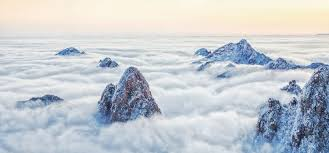sky: (2, 2, 310, 141)
stone: (269, 68, 327, 153), (98, 70, 158, 123), (200, 39, 286, 70)
